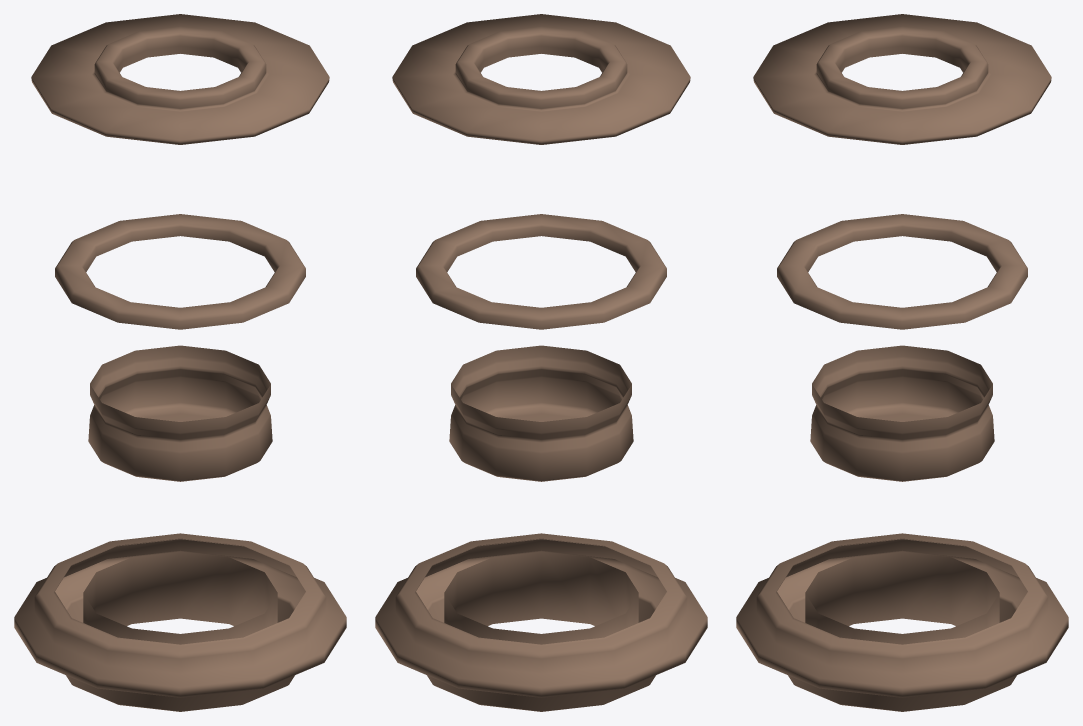
Rendered from cafeteraTransparent.fbx.
The picture shows the model from 3 angles, left to right: view 1: azimuth 30°, elevation 25°; view 2: azimuth 150°, elevation 25°; view 3: azimuth 270°, elevation 25°; orthographic projection.
Visible parts, largest first — view 1: cafeteraTransparent; view 2: cafeteraTransparent; view 3: cafeteraTransparent.
Part boxes in pixels (box(x1,y1,x2,y2)): cafeteraTransparent: box(14, 14, 346, 711); cafeteraTransparent: box(375, 14, 707, 711); cafeteraTransparent: box(736, 14, 1068, 711).
Size of the model in its own units: 21.02 by 41.72 by 21.02.
